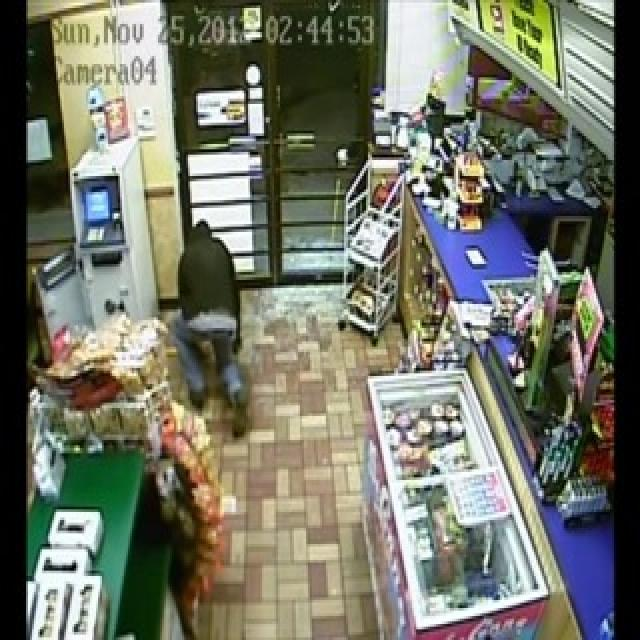thief: (108, 184, 258, 418)
